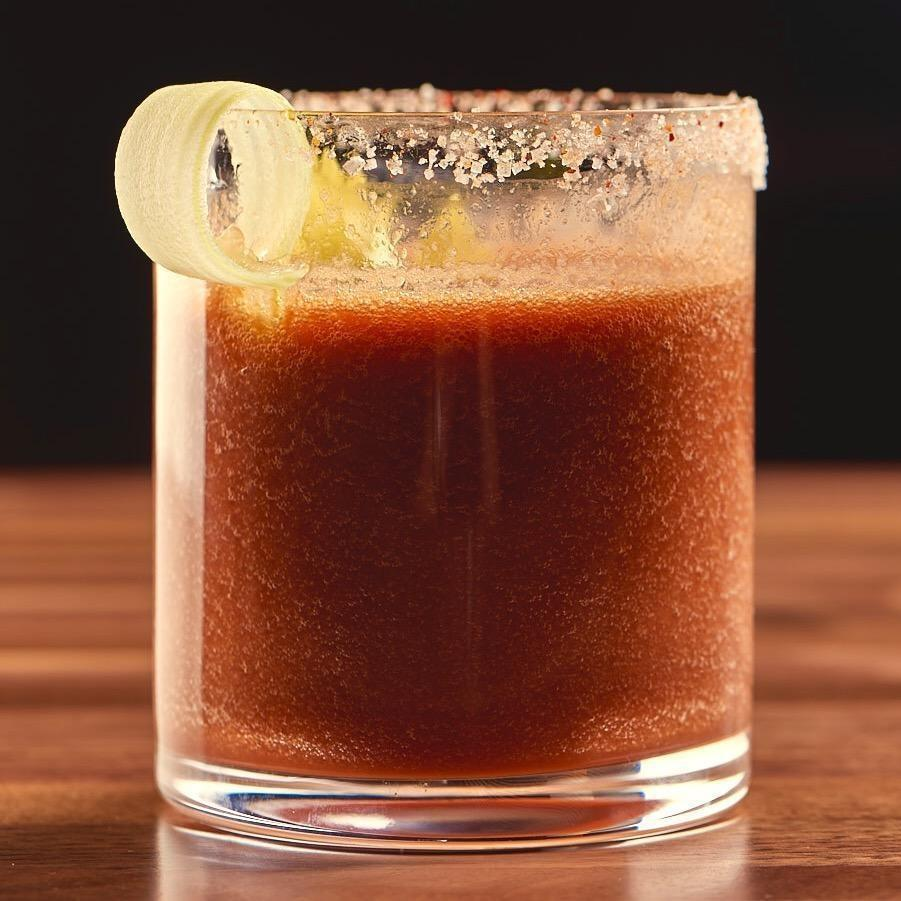glass-normal: (115, 81, 764, 843)
